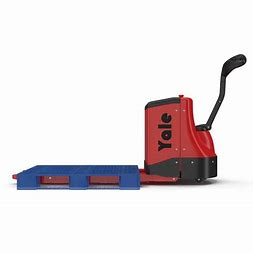Pallet Jack: (10, 50, 249, 192)
